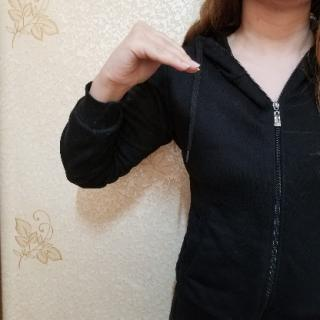HAA: (101, 18, 206, 91)
